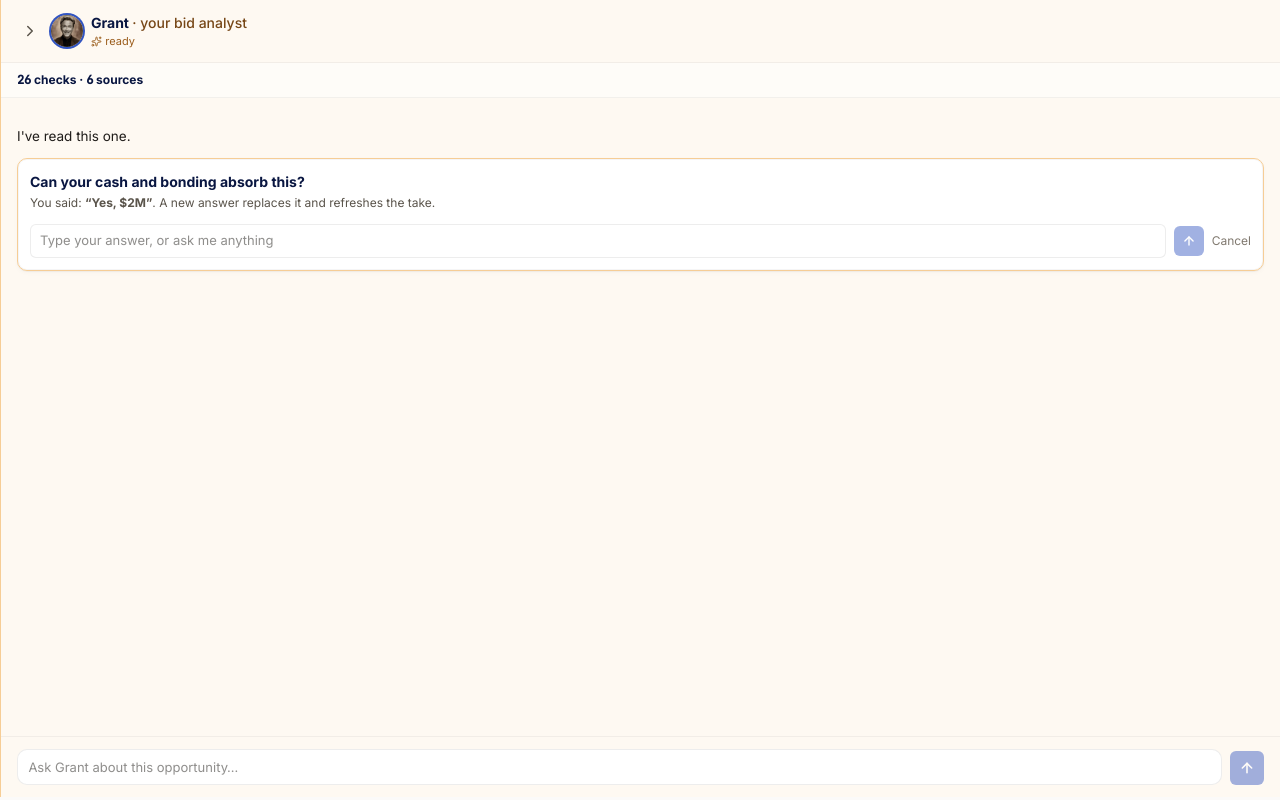
GrantRail — answered questions are revisable (edit answers) › the same Change from the take card opens the card again after Cancel
Later steps or results of the test are not shown.
Click the button "Cancel".
click(1231, 241)  # box [1212, 232, 1251, 250]
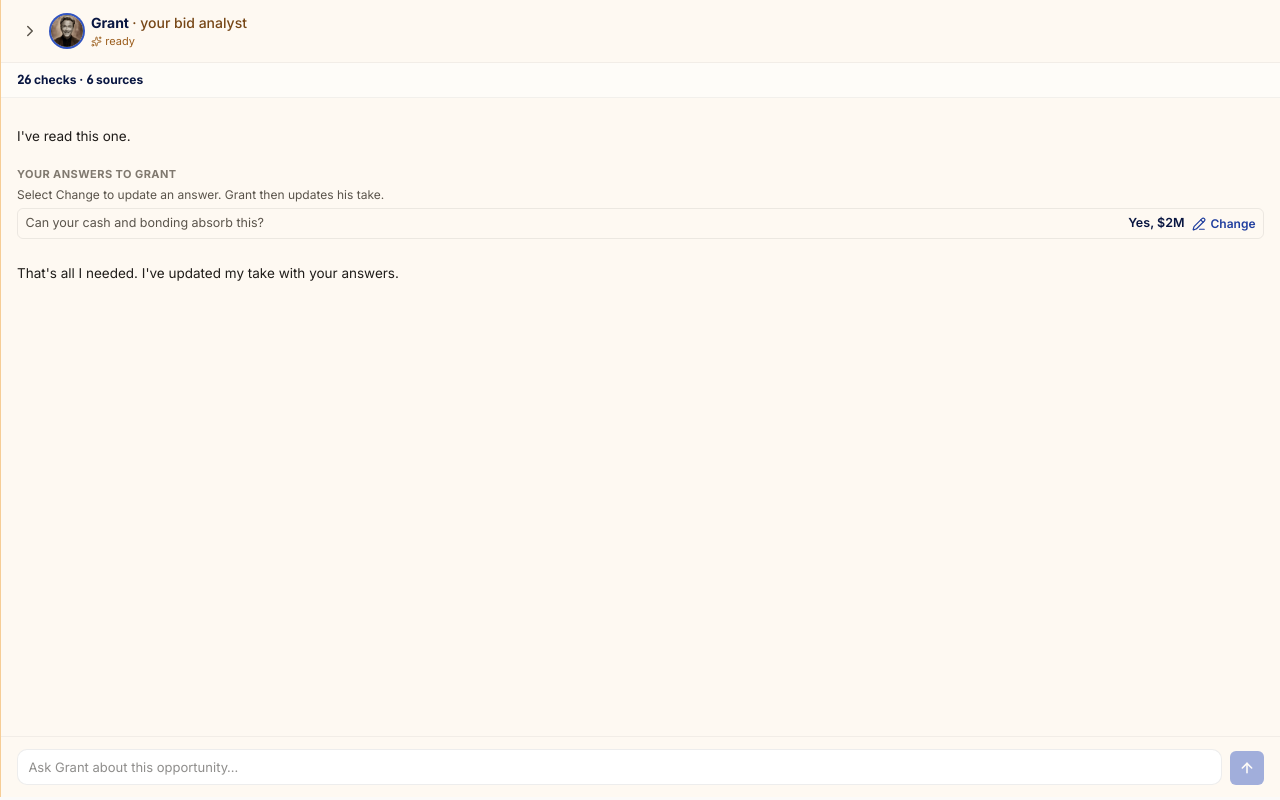
Expected: the button "Cancel" is gone
